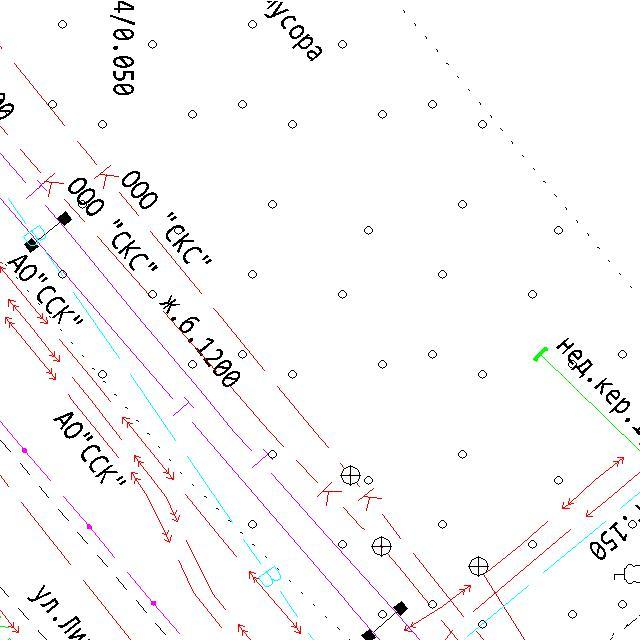well: (466, 554, 491, 579), (339, 463, 362, 488), (370, 534, 393, 558)
